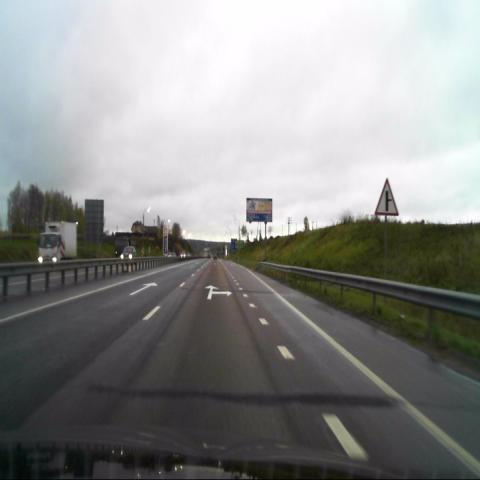2_3_2: (375, 174, 400, 217)
